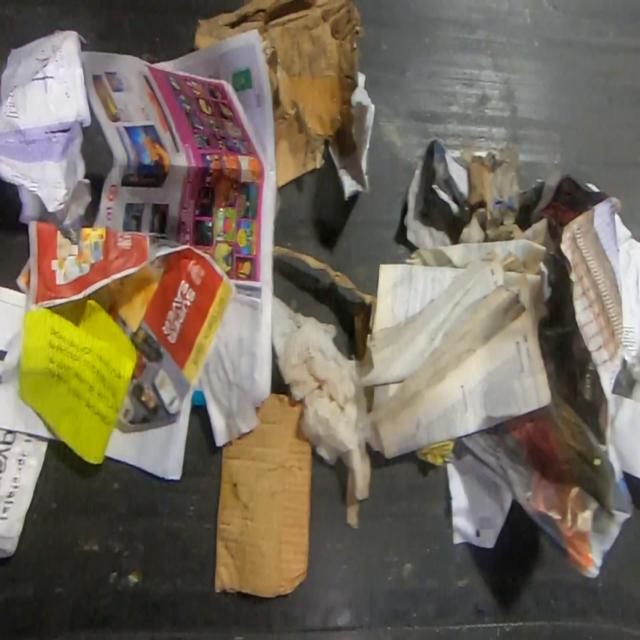cardboard: (191, 0, 365, 189), (211, 393, 313, 599), (274, 245, 375, 332)
